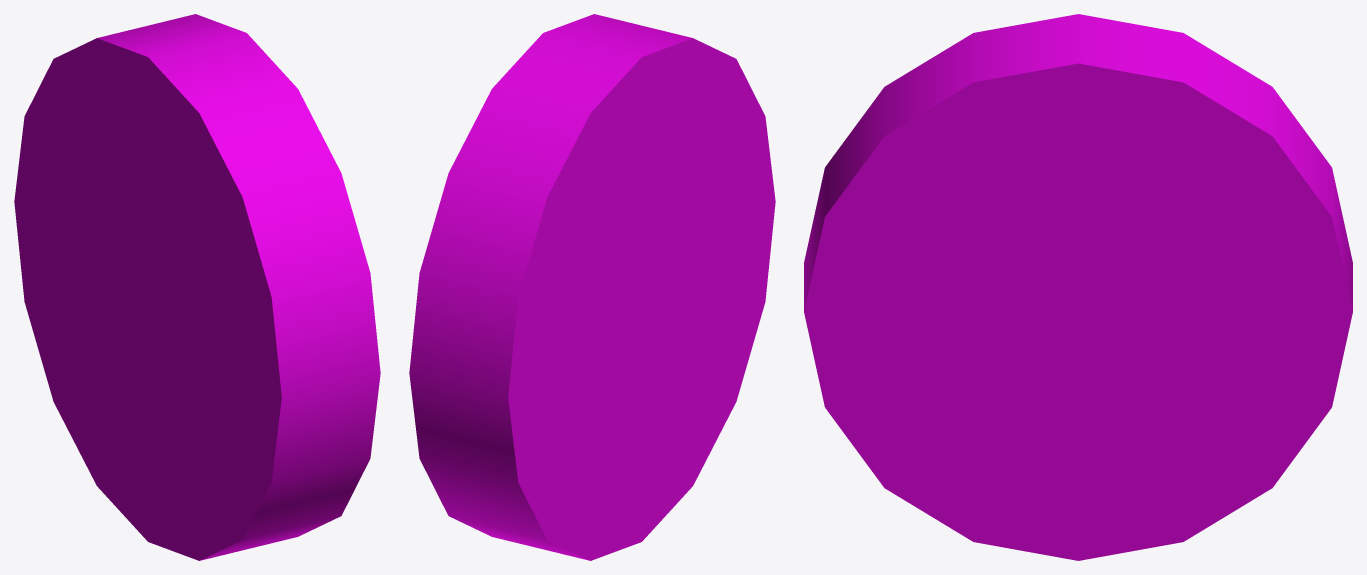
Rendered from SM_FrontWheelLeftCollider.fbx.
3 renders of one model, left to right at view 1: azimuth 30°, elevation 25°; view 2: azimuth 150°, elevation 25°; view 3: azimuth 270°, elevation 25°, orthographic. The views are drawn at different scales.
Parts seen in each view (by area): view 1: FrontWheelLeftCollision; view 2: FrontWheelLeftCollision; view 3: FrontWheelLeftCollision.
Part boxes in pixels (x1,y1,x2,y2): FrontWheelLeftCollision: (14, 14, 380, 560); FrontWheelLeftCollision: (409, 14, 775, 560); FrontWheelLeftCollision: (804, 14, 1352, 560).
Bounding box in the file's own units: 4.04 × 18.93 × 18.93.
